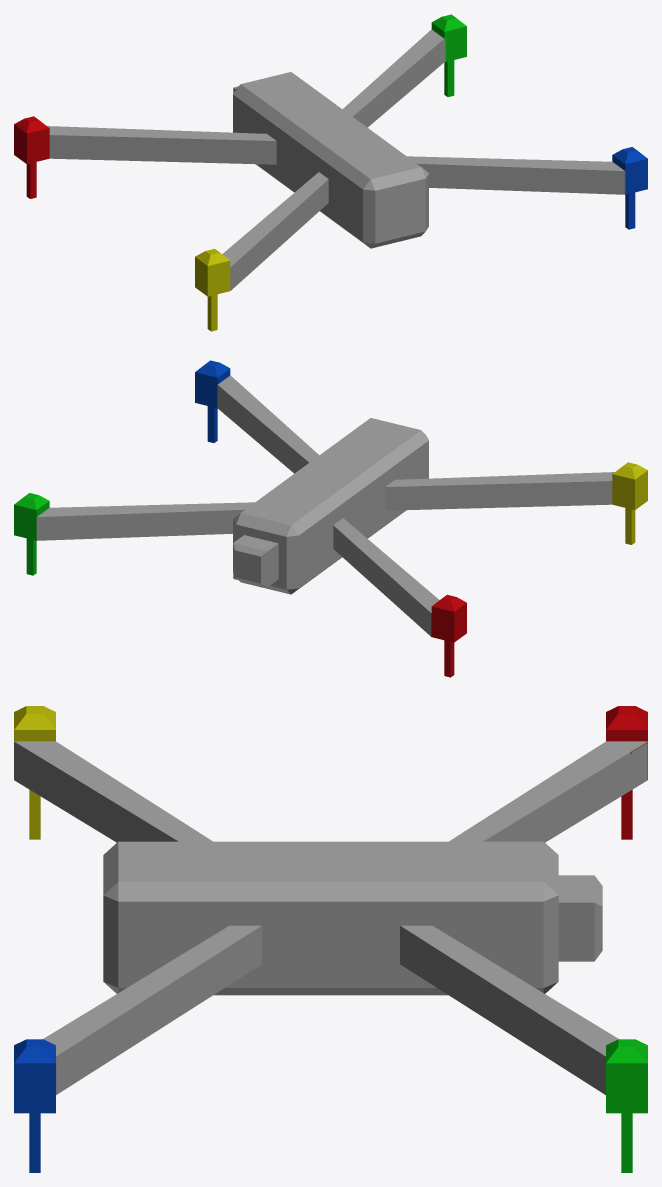
Rendered from drone.obj.
3 renders of one model, top to bottom at view 1: azimuth 30°, elevation 25°; view 2: azimuth 150°, elevation 25°; view 3: azimuth 270°, elevation 25°, orthographic. The views are drawn at different scales.
Parts seen in each view (by area): view 1: Cube; view 2: Cube; view 3: Cube.
Part boxes in pixels (x1,y1,x2,y2): Cube: (14, 14, 647, 331); Cube: (14, 360, 647, 677); Cube: (14, 706, 647, 1172).
Bounding box in the file's own units: 1.43 × 0.2691 × 1.09.
Materials: 1 (1 with a texture image).
